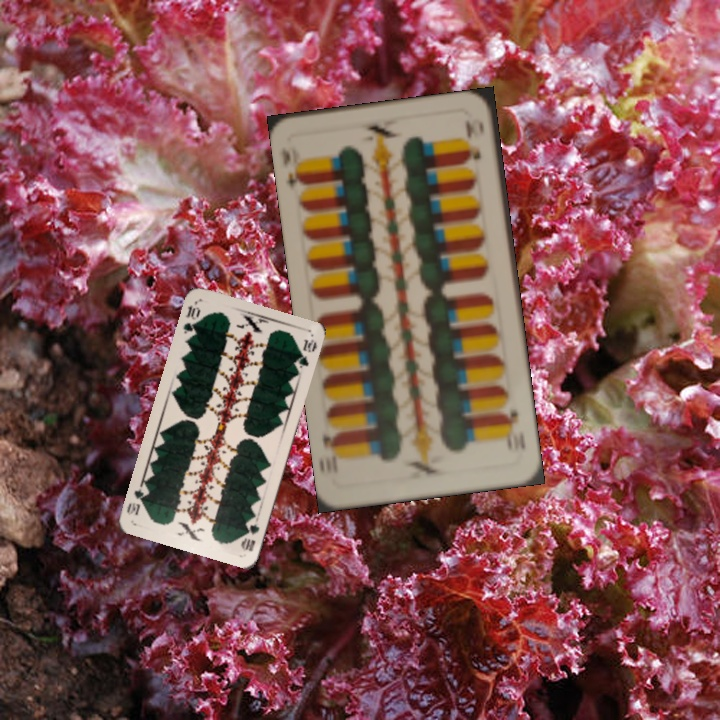E10: (278, 143, 310, 192), (500, 404, 523, 453)
G10: (179, 299, 203, 336), (238, 520, 262, 554)
